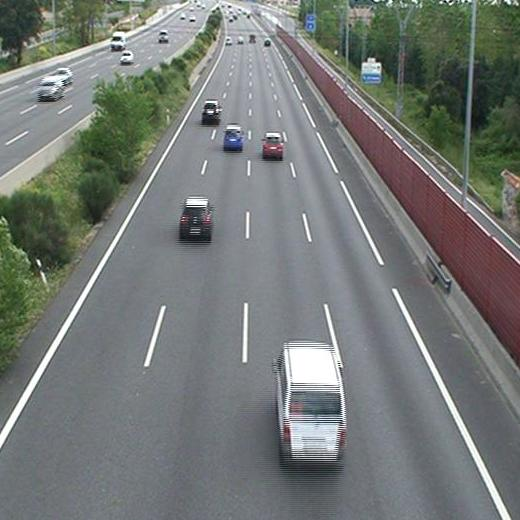car: (180, 199, 211, 235), (262, 134, 284, 156), (224, 125, 243, 148), (202, 100, 220, 120)
van: (274, 343, 345, 463)
